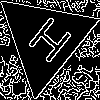H: (20, 14, 74, 72)
